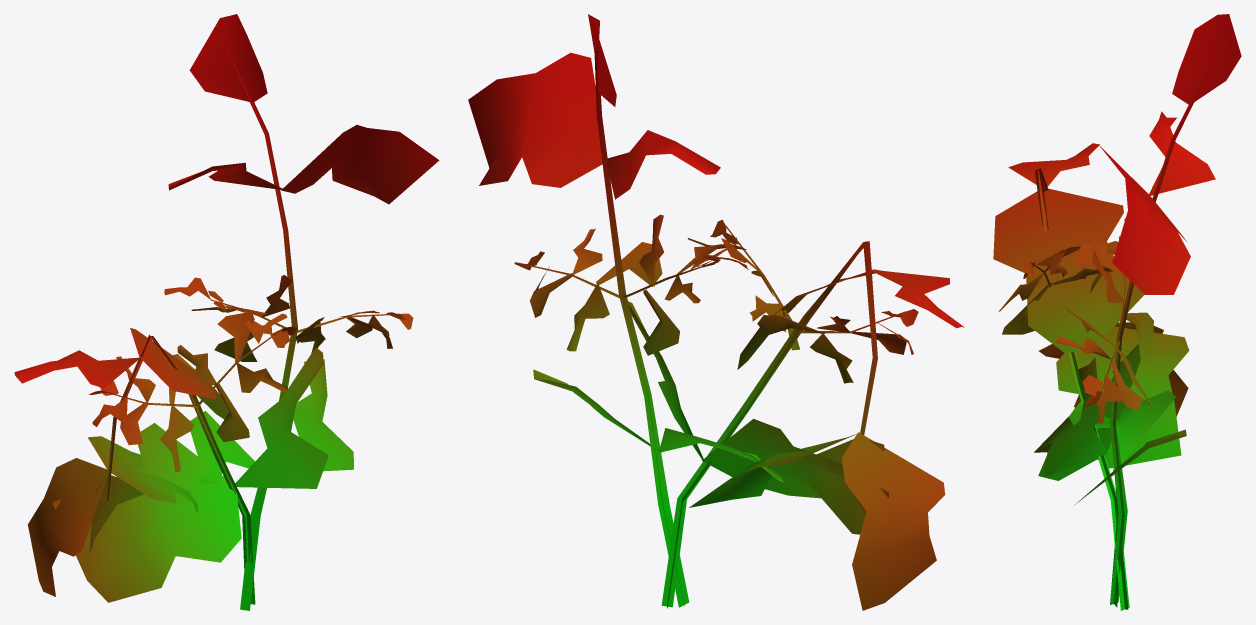
The model's file is White Ramping Fumitory_LOD2_Var5_ti4efc3ia.fbx.
3 renders of one model, left to right at view 1: azimuth 30°, elevation 25°; view 2: azimuth 150°, elevation 25°; view 3: azimuth 270°, elevation 25°, orthographic. The views are drawn at different scales.
Visible parts, largest first — view 1: _4e33_Var5_LOD2; view 2: _4e33_Var5_LOD2; view 3: _4e33_Var5_LOD2.
Boxes of the visible parts, x1,y1,x2,y2 form: _4e33_Var5_LOD2: (14,14,439,610); _4e33_Var5_LOD2: (468,14,963,610); _4e33_Var5_LOD2: (993,14,1241,610).
Size of the model in its own units: 31.47 by 38.48 by 14.14.
